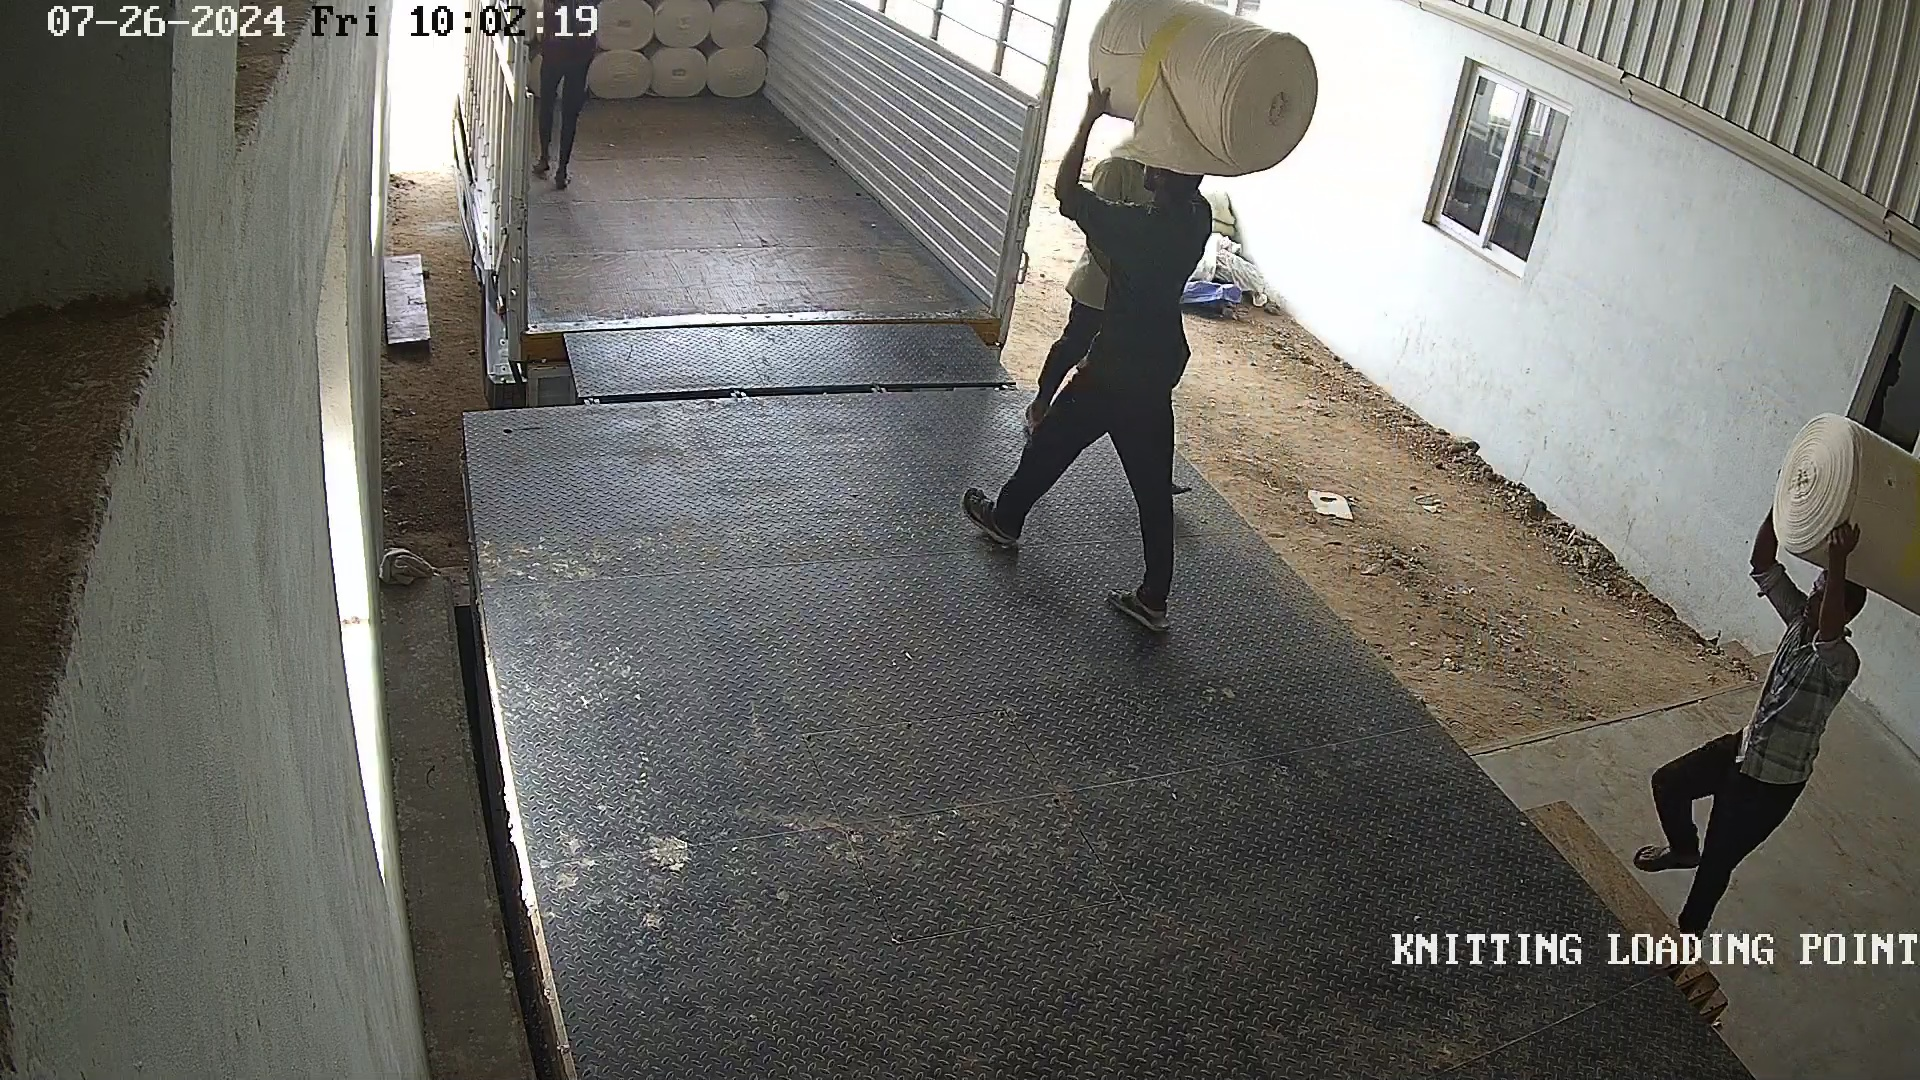bag: (1076, 4, 1327, 186)
